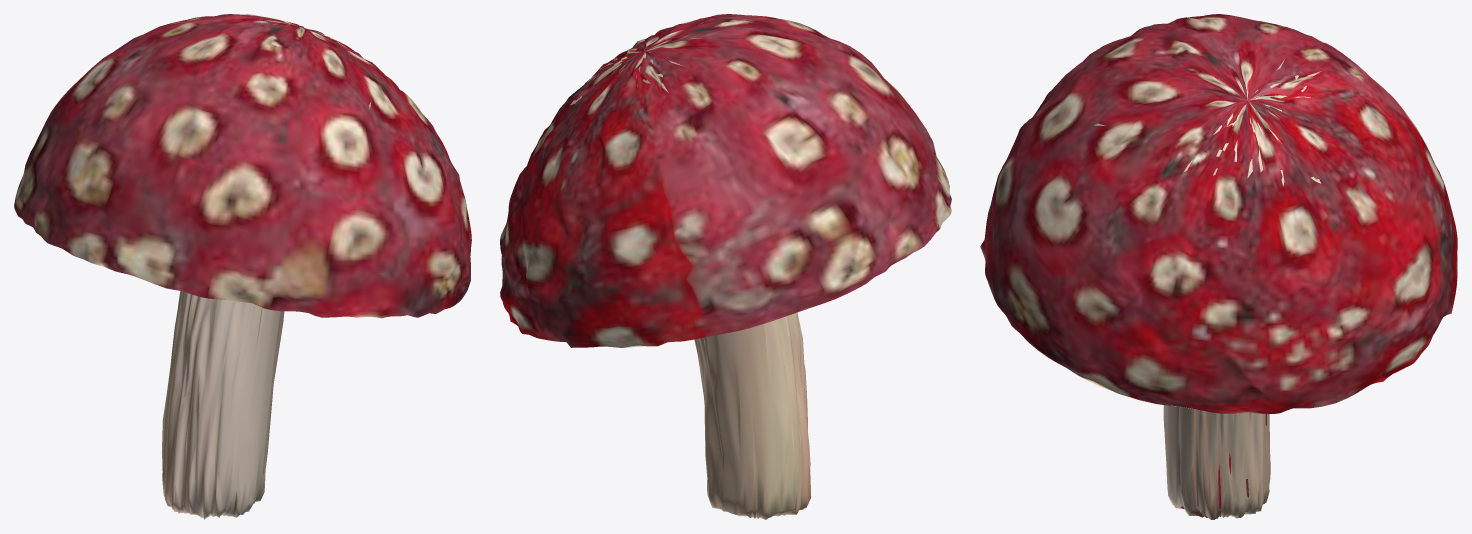
The picture shows the model from 3 angles, left to right: view 1: azimuth 30°, elevation 25°; view 2: azimuth 150°, elevation 25°; view 3: azimuth 270°, elevation 25°; orthographic projection. The views are drawn at different scales.
Visible parts, largest first — view 1: Sphere001; view 2: Sphere001; view 3: Sphere001.
Part boxes in pixels (box(x1,y1,x2,y2)): Sphere001: box(14, 14, 471, 519); Sphere001: box(500, 14, 951, 519); Sphere001: box(980, 14, 1457, 519).
Size of the model in its own units: 79.03 by 90.29 by 80.44.
1 material, 1 textured.
